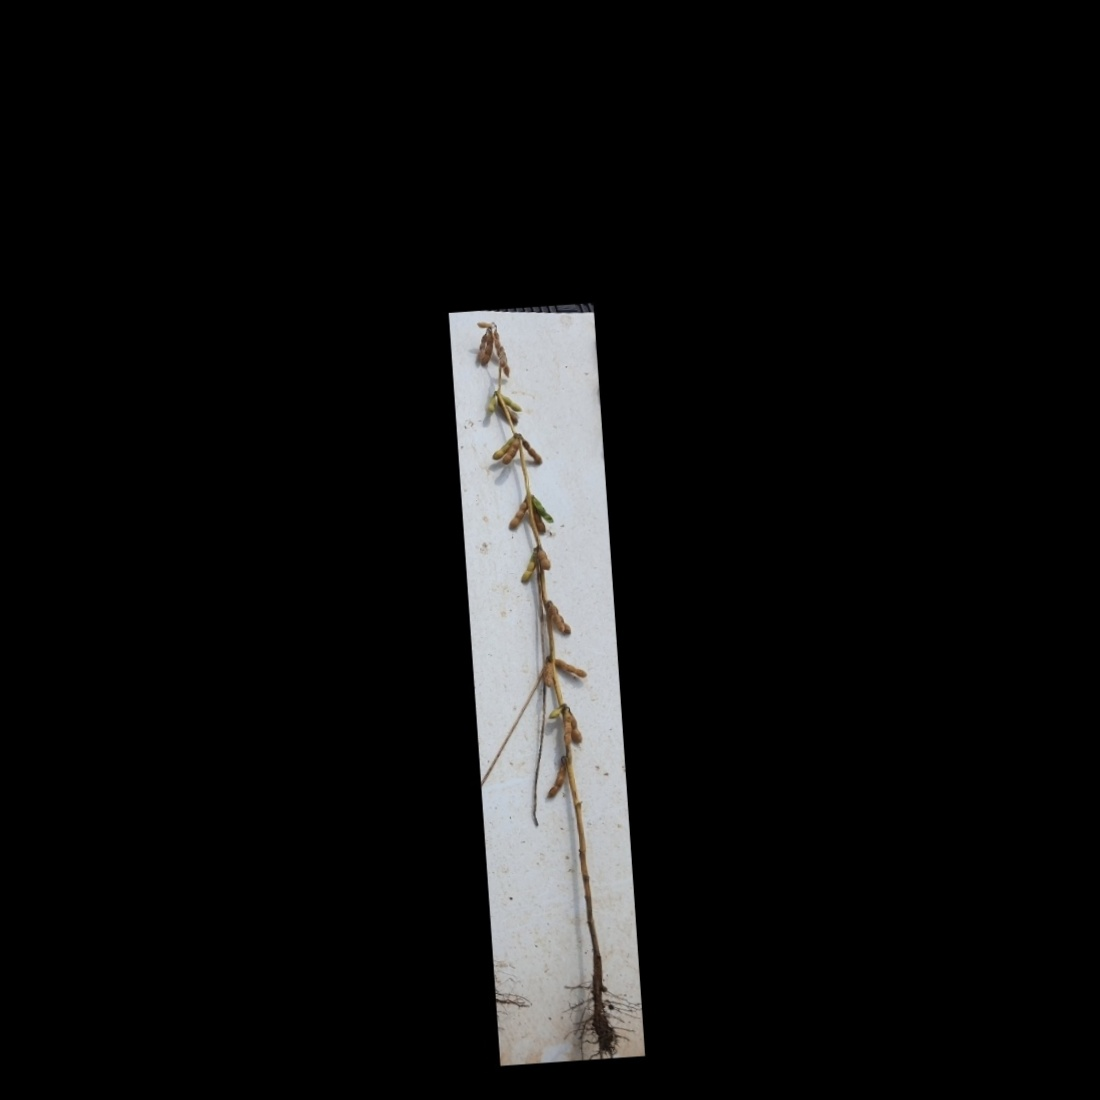pod: (544, 759, 570, 799), (552, 653, 588, 681), (520, 435, 545, 466), (516, 552, 540, 584), (507, 498, 531, 529), (542, 657, 557, 688), (536, 546, 553, 572), (545, 703, 567, 722), (483, 394, 497, 416), (474, 319, 493, 330)
soy: (463, 306, 627, 1053)
